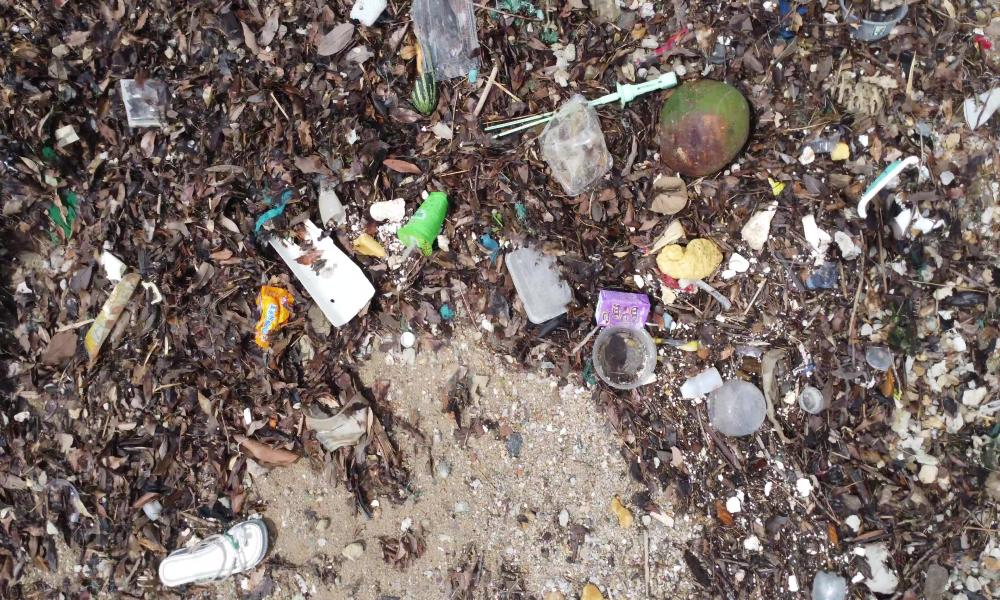carton: (250, 283, 293, 351), (597, 293, 654, 324)
plastic container: (418, 0, 486, 81), (590, 321, 656, 392), (704, 373, 770, 438), (394, 188, 449, 262), (120, 57, 170, 134)
